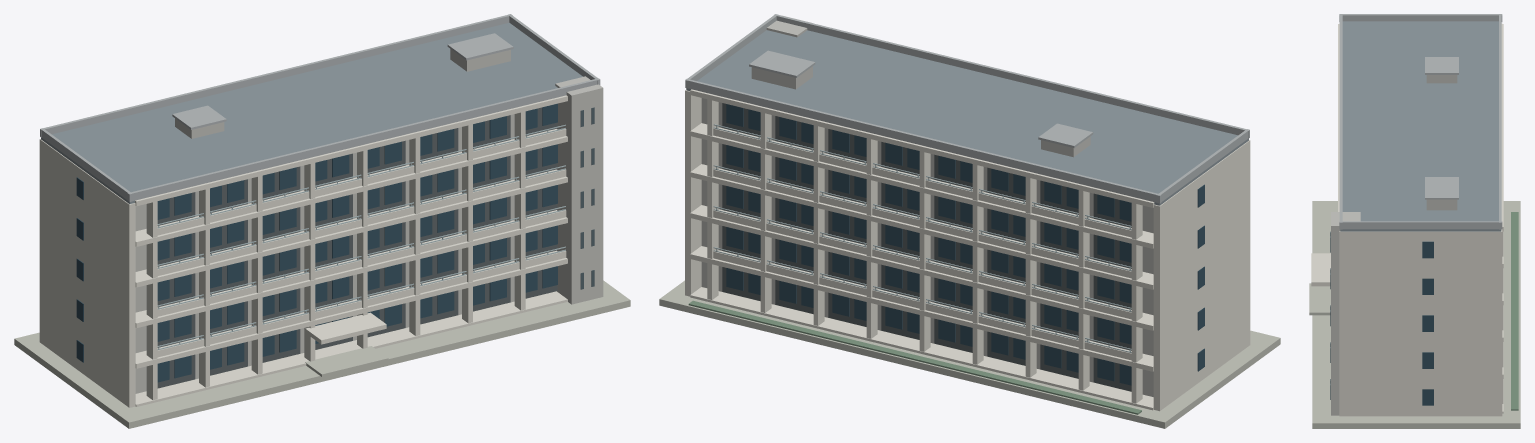
The picture shows the model from 3 angles, left to right: view 1: azimuth 30°, elevation 25°; view 2: azimuth 150°, elevation 25°; view 3: azimuth 270°, elevation 25°; orthographic projection. The views are drawn at different scales.
Bounding box in the file's own units: 39.4 × 17.1 × 15.83.
